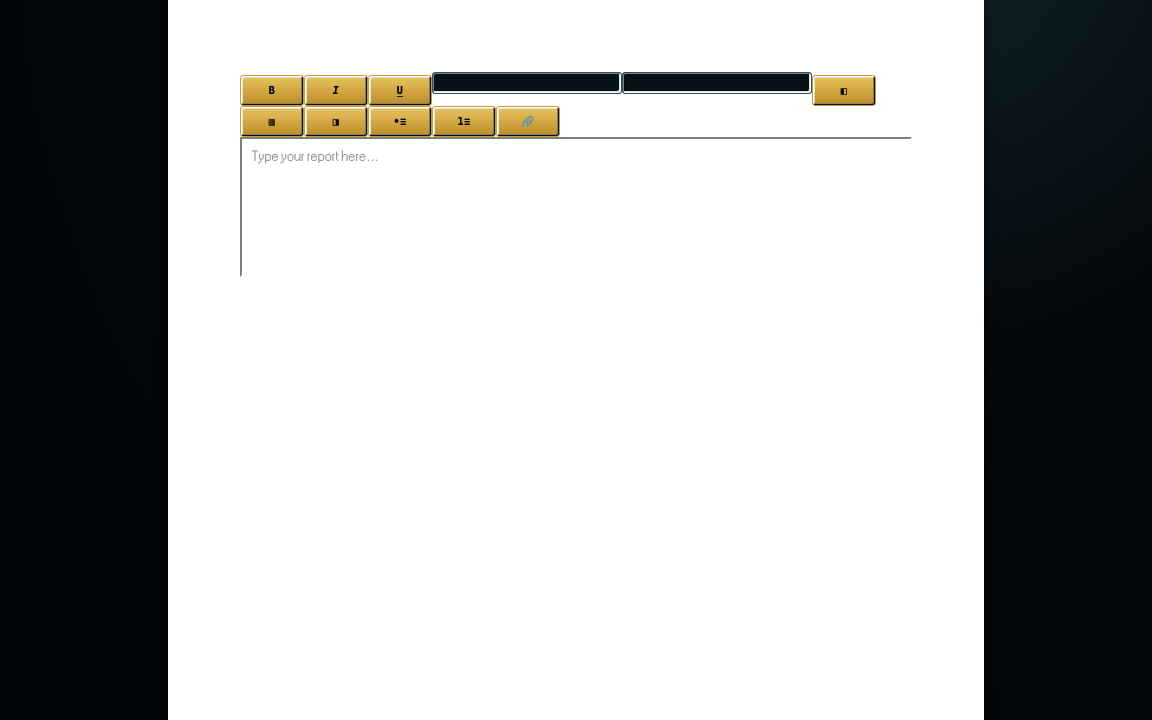
Test case: TextBlock descriptor menu — no double menu, portaled out of the scaled page › an outside click still dismisses the portaled menu
Right-click the field with class "ga98-report-textblock-body" at (576, 207), box x1=240 y1=137 x2=912 y2=277
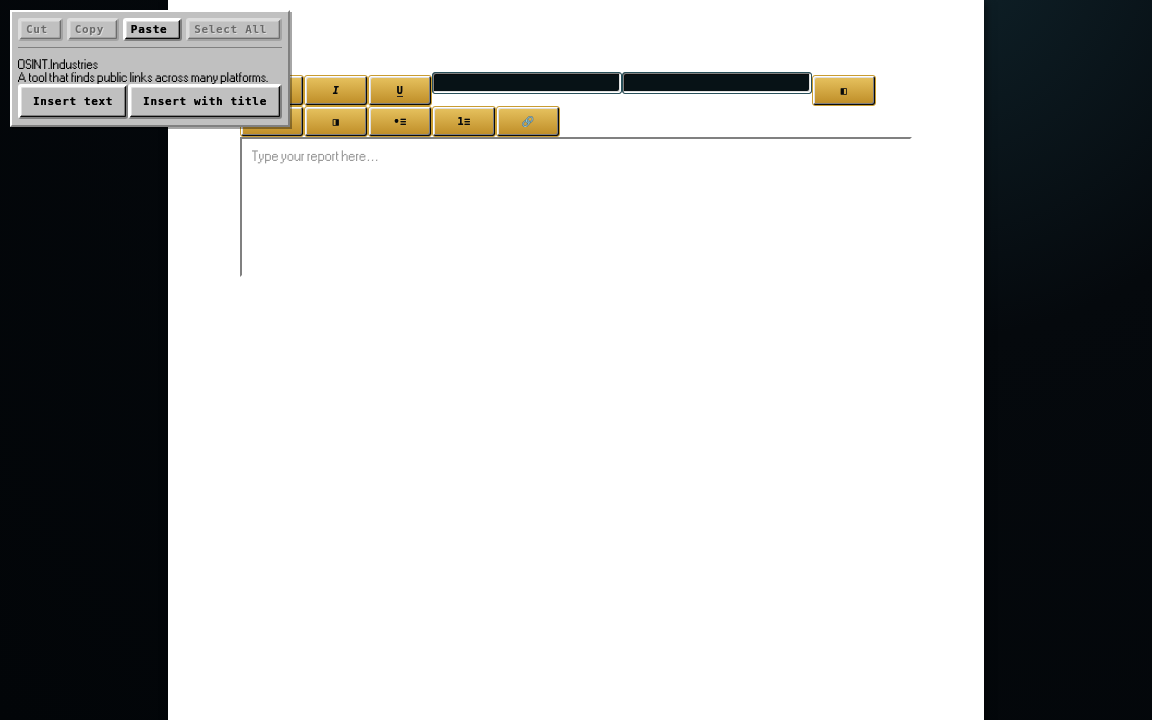
Now the menu with class "ga98-report-descmenu" is shown, box x1=10 y1=10 x2=290 y2=127
Press the mouse on the element that starts with "Cut" at (576, 360), box x1=0 y1=0 x2=1151 y2=719
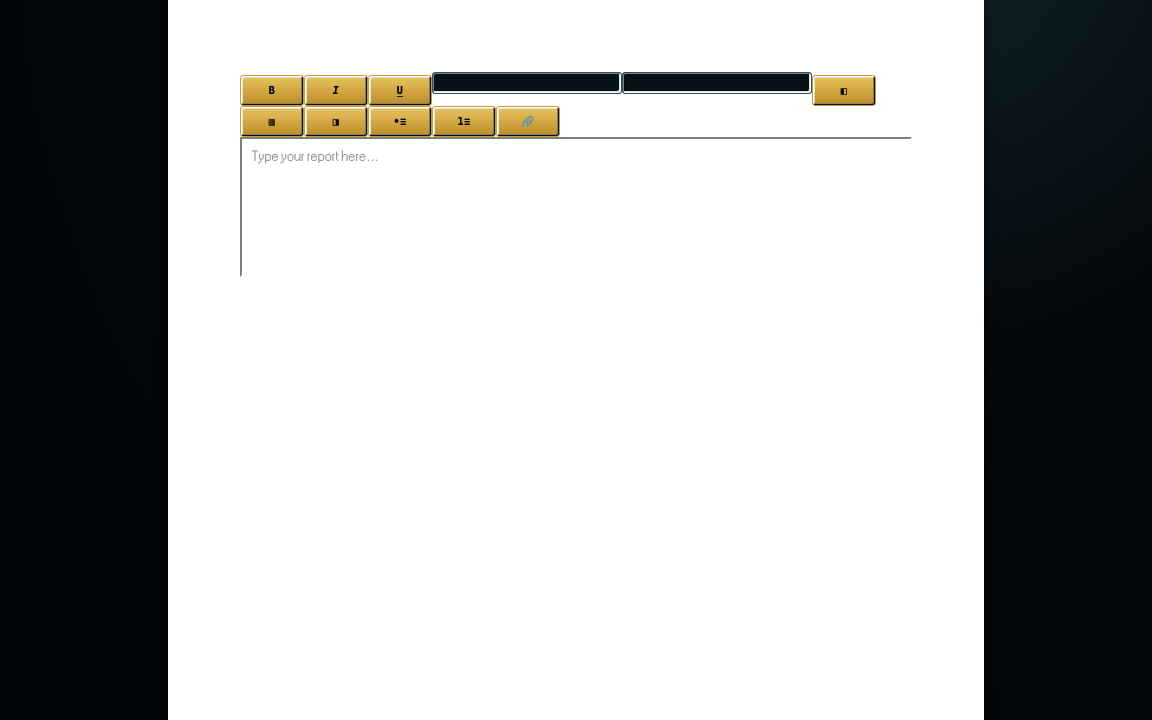
Now the menu with class "ga98-report-descmenu" is gone
